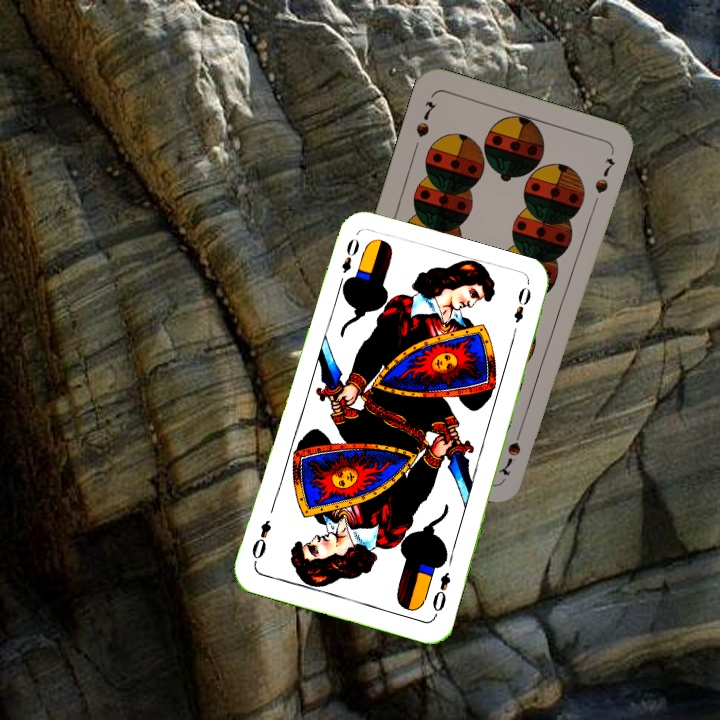EO: (428, 568, 453, 620), (337, 234, 362, 276)
S7: (496, 422, 525, 478), (411, 97, 439, 140)
